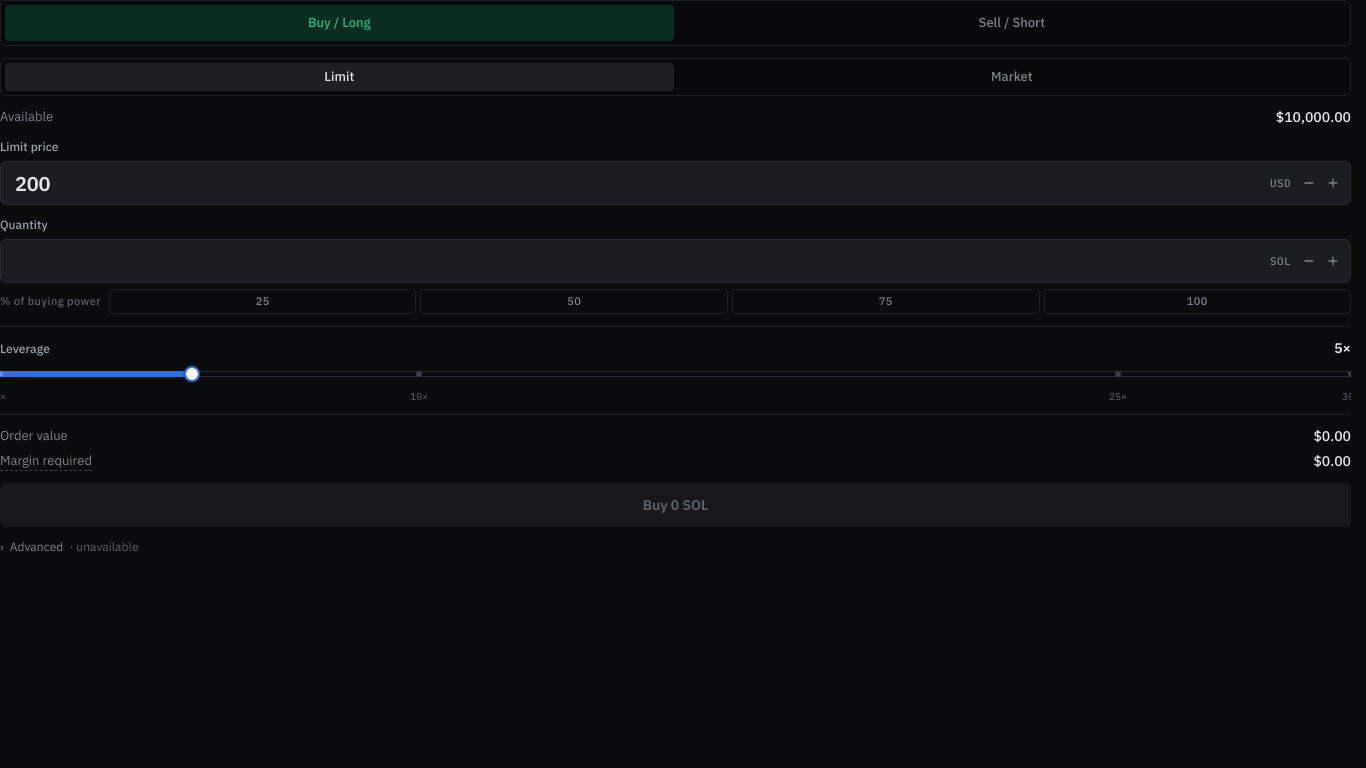
Test case: submitting an order › reports a resting limit order rather than claiming a fill
Expected: the text "$10,000.00" is shown, [1276, 108, 1351, 127]
Type "2" into the field labelled "Quantity" at coordinates (676, 261), box [0, 239, 1351, 283]
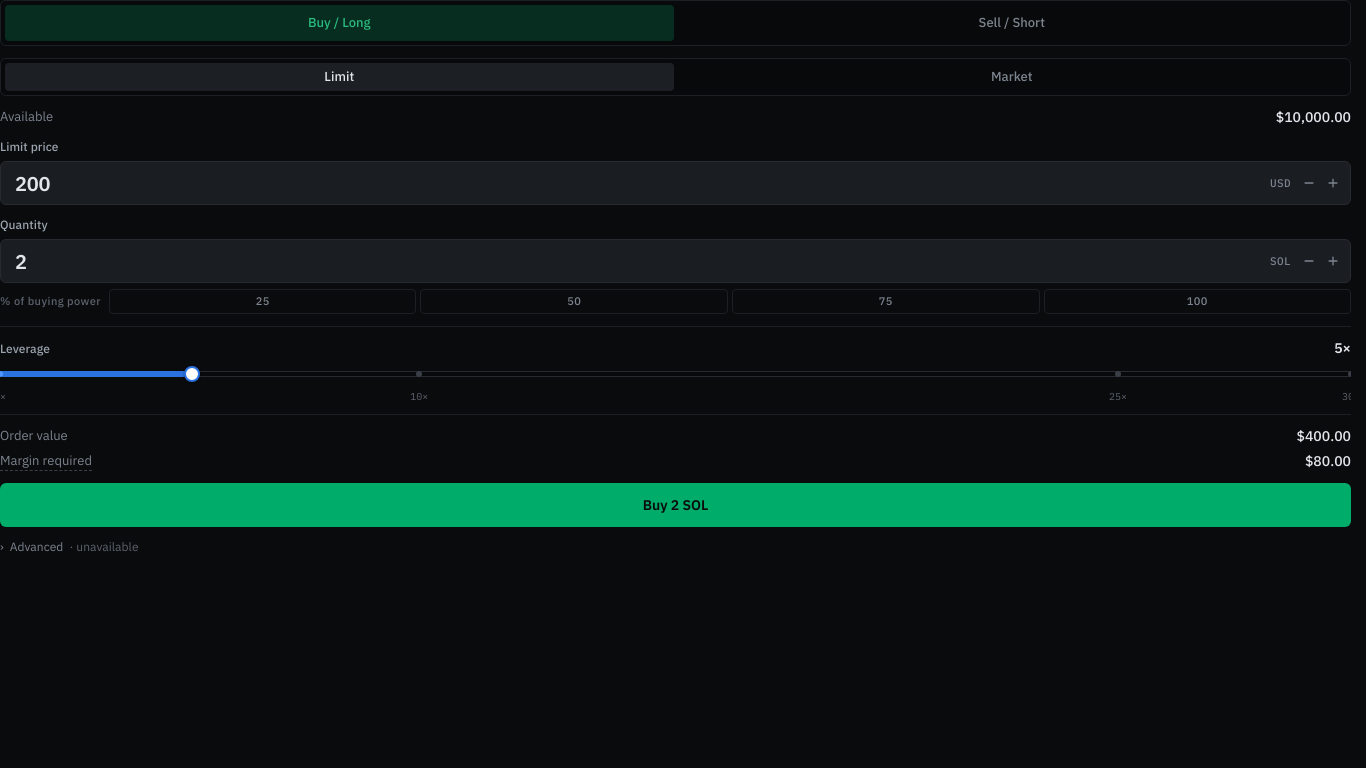
Click the button "Buy 2 SOL" at coordinates (676, 505), box [0, 483, 1351, 527]
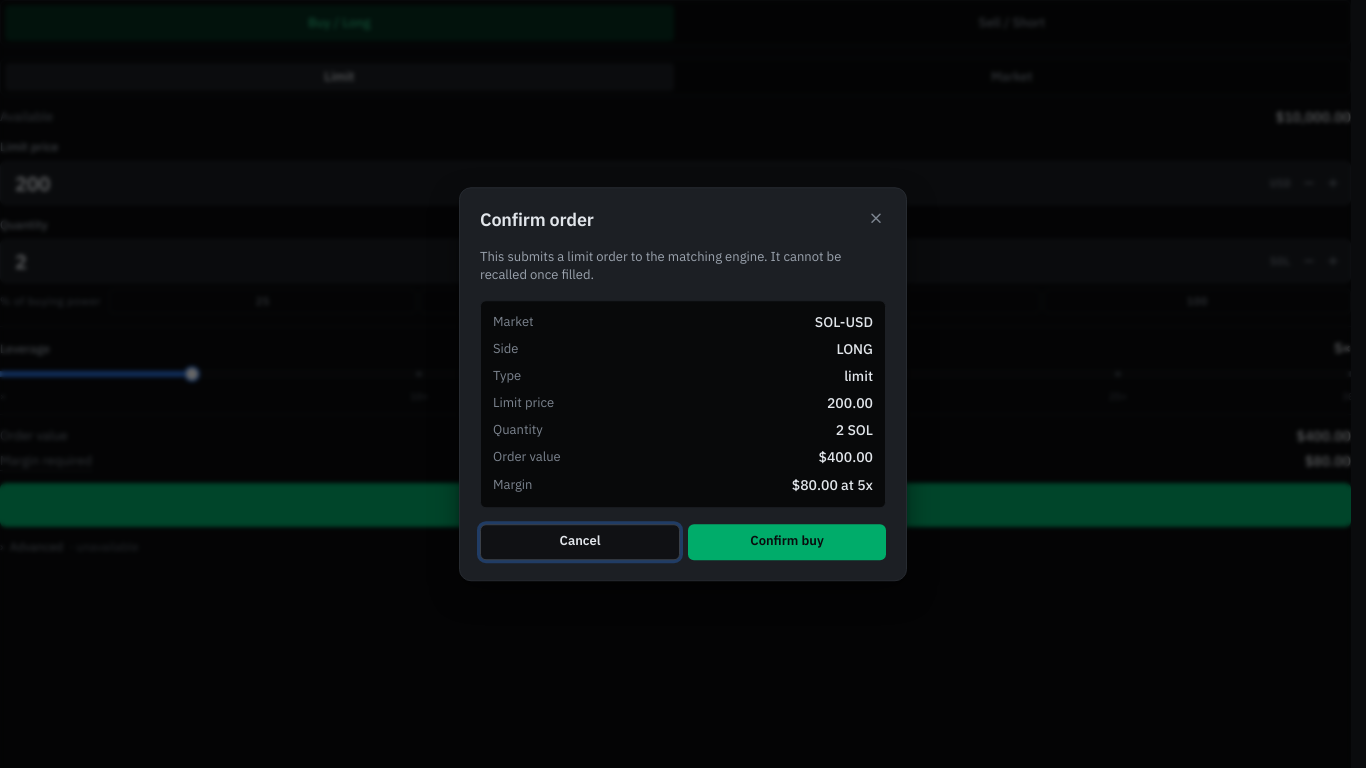
Result: the button "Confirm buy" is shown
Click the button "Confirm buy" at coordinates (787, 542), box [688, 524, 886, 560]
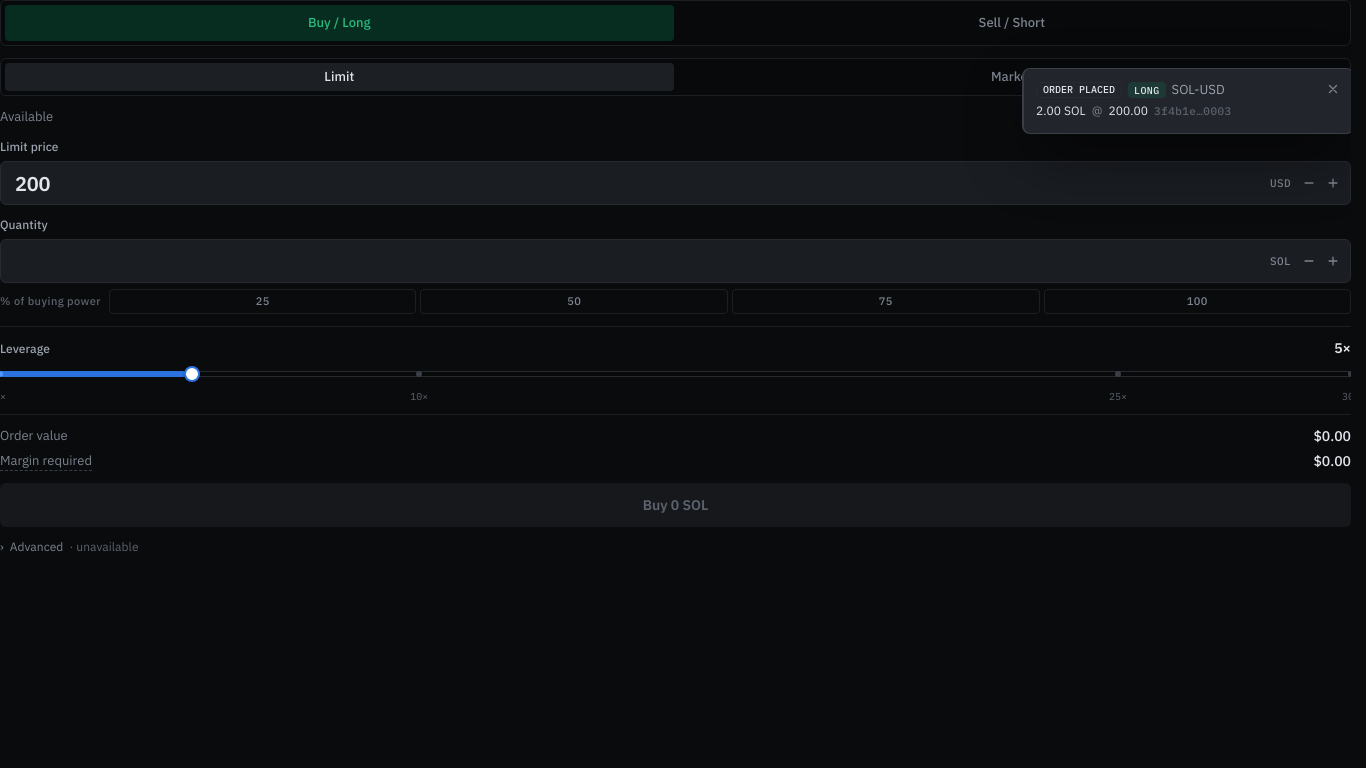
Result: the text "Order placed" is shown at [1036, 82, 1122, 98]
